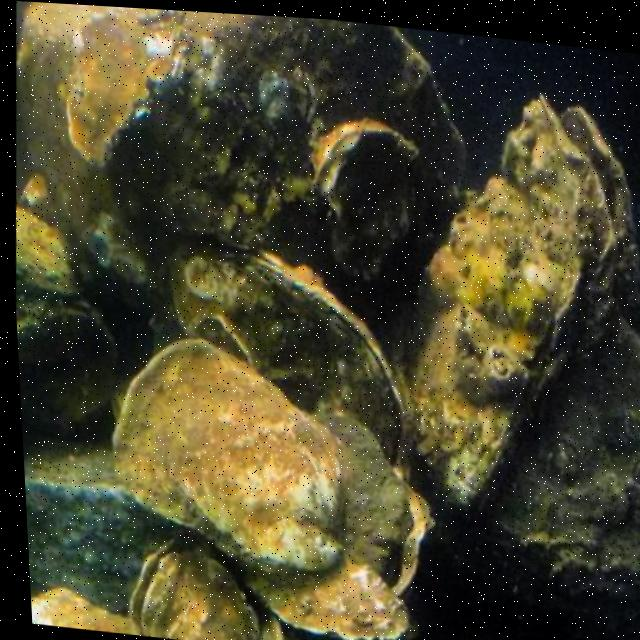Oyster-Closed: (173, 242, 405, 470), (308, 119, 416, 278)
Oyster-Indeterminate: (107, 14, 468, 337), (401, 95, 610, 516), (411, 319, 640, 640), (112, 339, 345, 570), (65, 11, 194, 164), (313, 416, 412, 582), (561, 107, 639, 314), (247, 553, 407, 640), (16, 206, 83, 297), (31, 591, 136, 635), (259, 618, 291, 640)
Oyster-Open: (130, 528, 260, 640)
